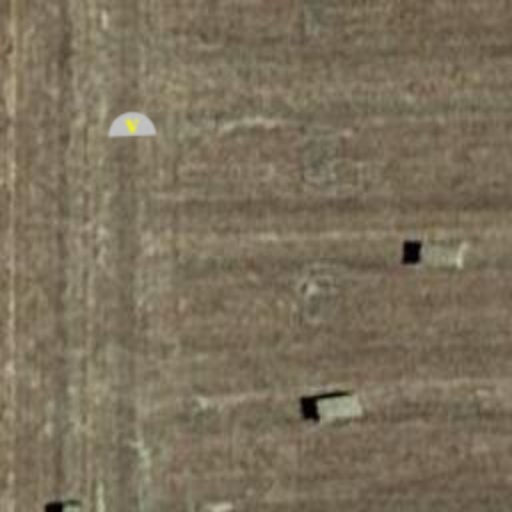semicircle: (106, 98, 158, 150)
